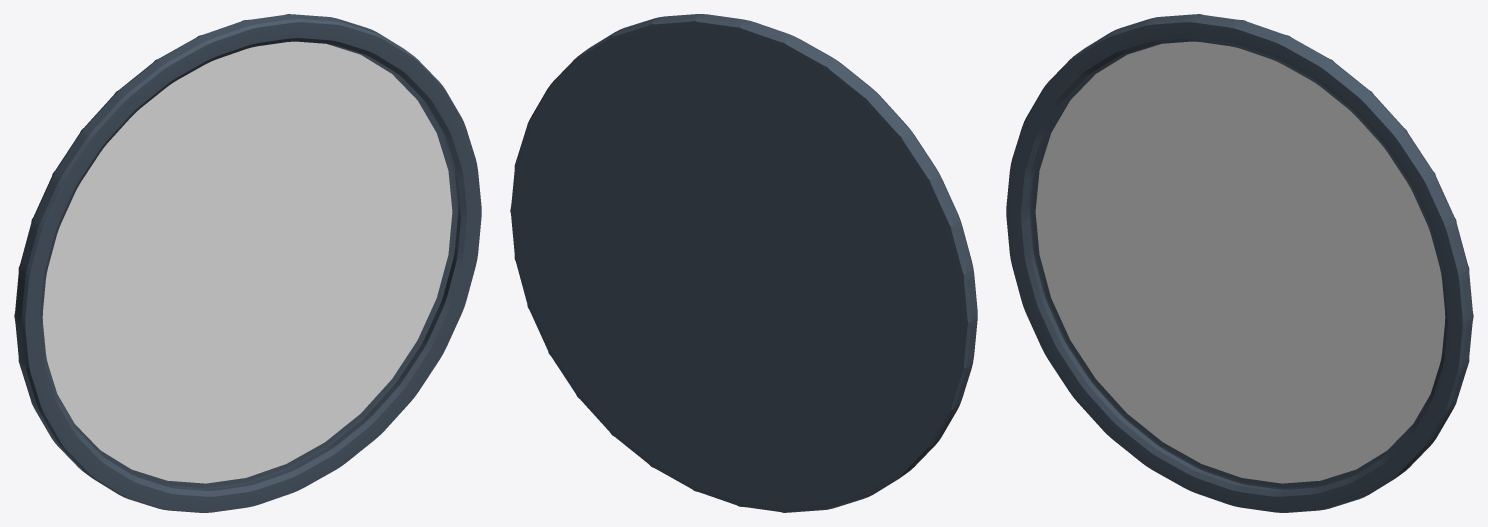
Rendered from mirror_entrance.fbx.
3 renders of one model, left to right at view 1: azimuth 30°, elevation 25°; view 2: azimuth 150°, elevation 25°; view 3: azimuth 330°, elevation 25°, orthographic.
Visible parts, largest first — view 1: mirror_entrance; view 2: mirror_entrance; view 3: mirror_entrance.
Boxes of the visible parts, bbox=[...] form: mirror_entrance: bbox=[14, 14, 481, 512]; mirror_entrance: bbox=[510, 14, 977, 512]; mirror_entrance: bbox=[1006, 14, 1473, 512].
Size of the model in its own units: 95.17 by 95.17 by 3.69.
